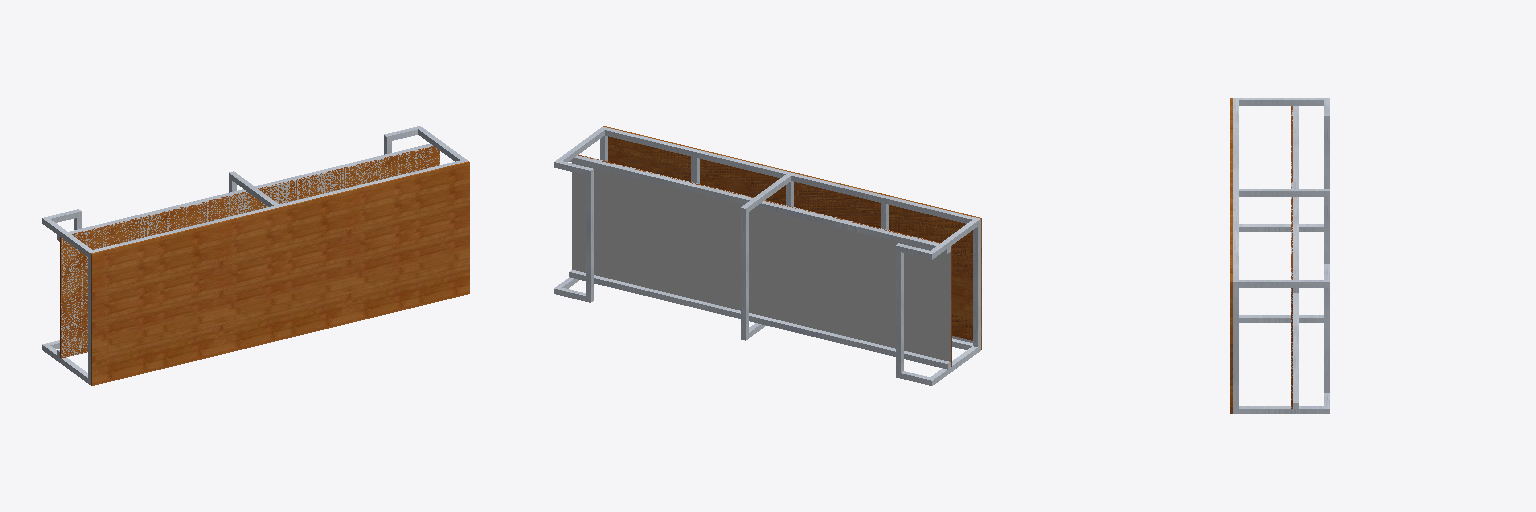
3 views of the same model, side by side, from view 1: azimuth 30°, elevation 25°; view 2: azimuth 150°, elevation 25°; view 3: azimuth 270°, elevation 25° (orthographic).
Bounding box in the file's own units: 1.43 × 0.4759 × 0.3244.
Materials: 4 (3 with a texture image).